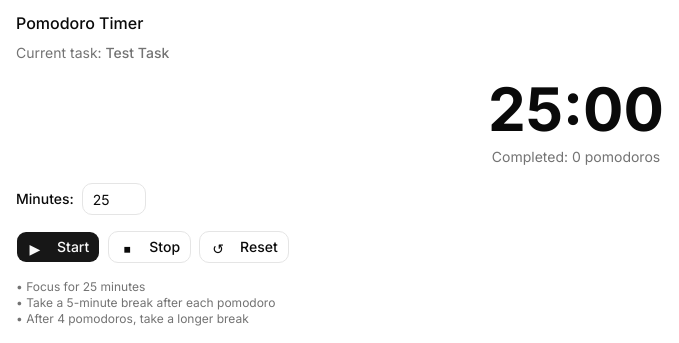
Test: PomodoroTimer Component › Timer controls › should start timer when Start is clicked
Click the button "▶ Start": (58, 247) [16,231,100,263]
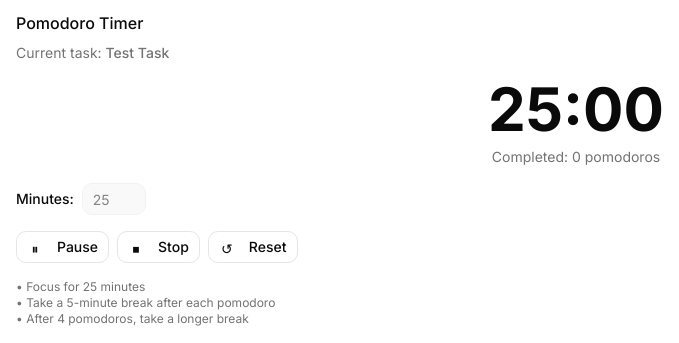
Now the button "⏸ Pause" is shown, box [16,231,109,263]
